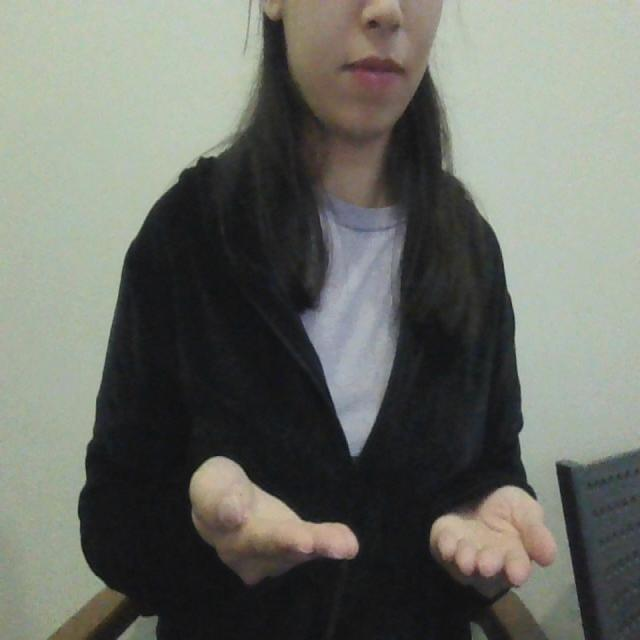Evet: (186, 450, 556, 604)
